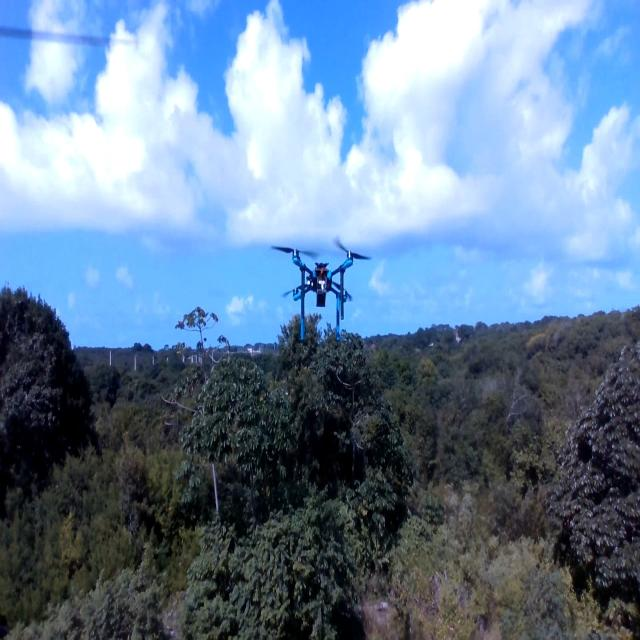-uav-: (265, 216, 369, 375)
